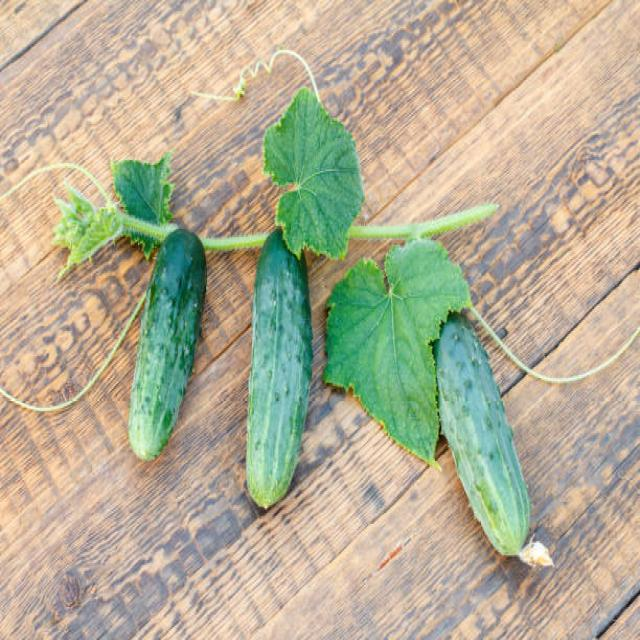cucumber: (432, 312, 532, 556), (246, 226, 313, 506), (127, 229, 207, 461)
